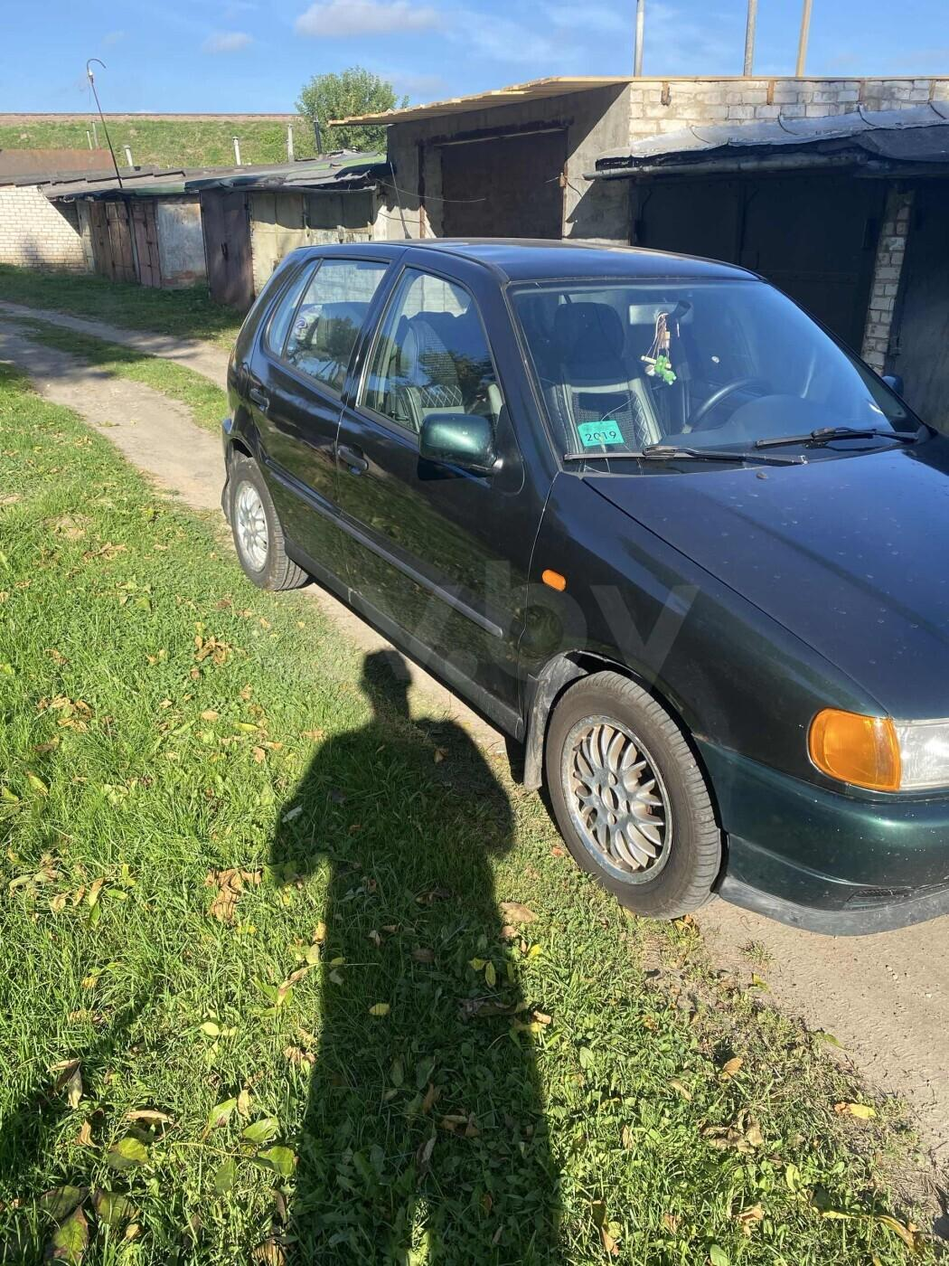Polo_1994-2002: (218, 232, 948, 975)
